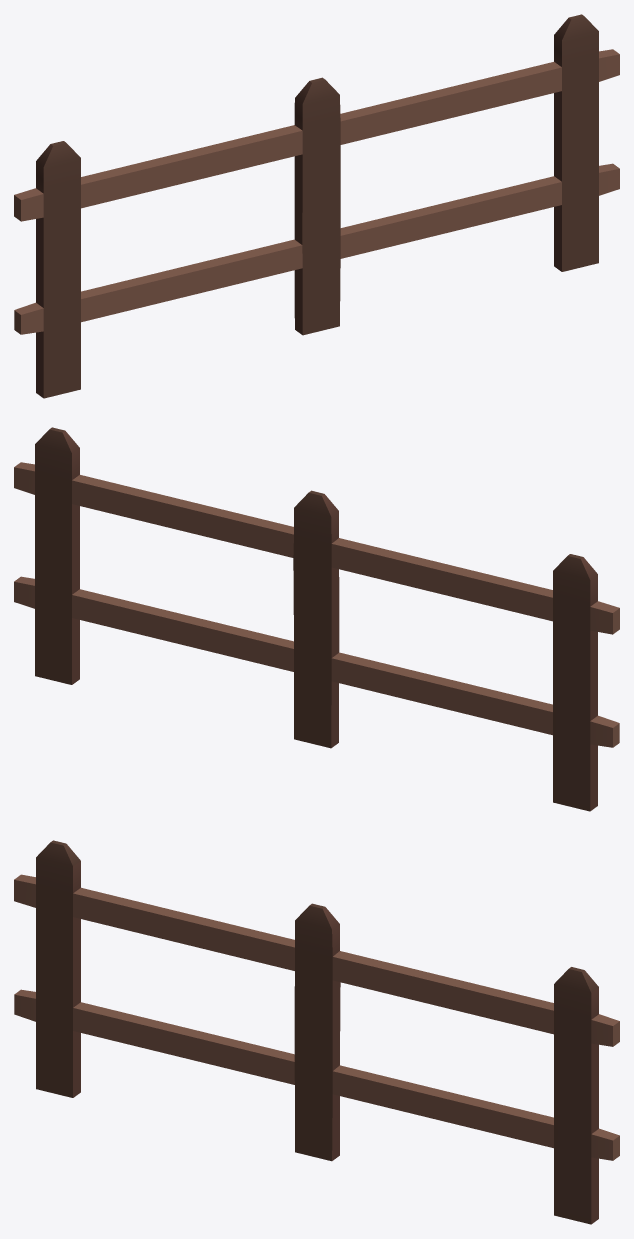
File: FenseWood3.fbx
3 renders of one model, top to bottom at view 1: azimuth 30°, elevation 25°; view 2: azimuth 150°, elevation 25°; view 3: azimuth 330°, elevation 25°, orthographic.
Visible parts, largest first — view 1: pCube4; view 2: pCube4; view 3: pCube4.
Part boxes in pixels (x1,y1,x2,y2): pCube4: (14,14,619,398); pCube4: (14,427,619,811); pCube4: (14,840,619,1224).
Bounding box in the file's own units: 11.6 × 4.59 × 0.2635.
